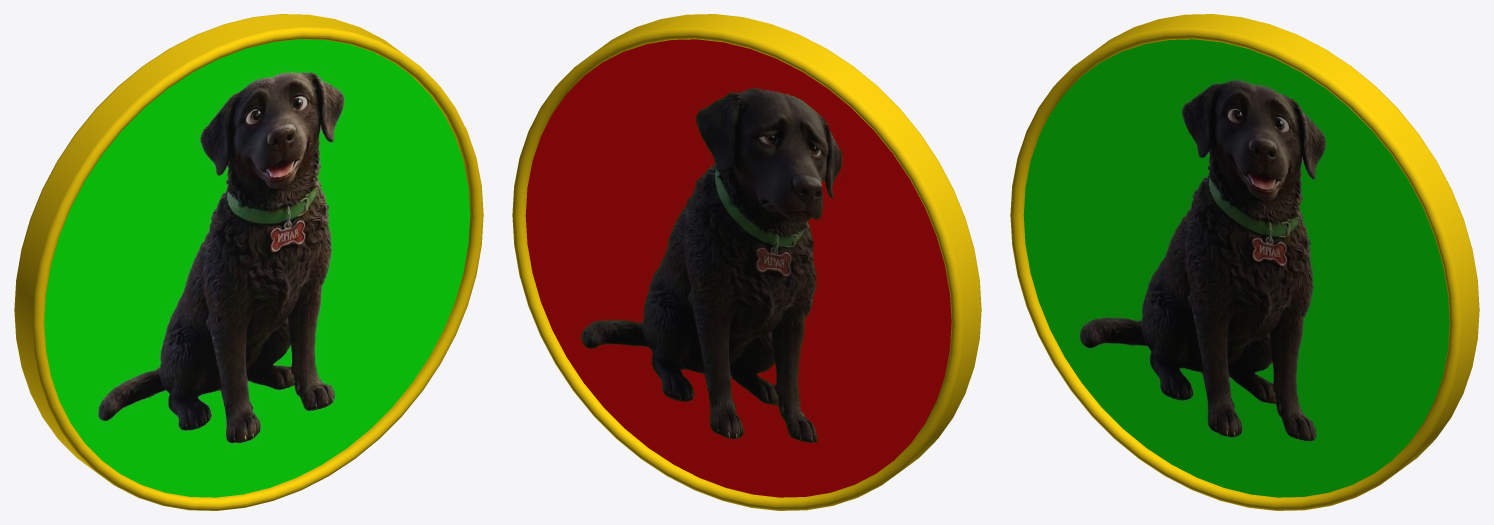
The model's file is moneda_Rayen.glb.
3 views of the same model, side by side, from view 1: azimuth 30°, elevation 25°; view 2: azimuth 150°, elevation 25°; view 3: azimuth 330°, elevation 25° (orthographic).
Parts seen in each view (by area): view 1: pCylinder1; view 2: pCylinder1; view 3: pCylinder1.
Part boxes in pixels (box(x1,y1,x2,y2)): pCylinder1: box(14, 14, 483, 510); pCylinder1: box(512, 14, 981, 510); pCylinder1: box(1010, 14, 1479, 510).
Bounding box in the file's own units: 0.3155 × 0.3148 × 0.0286.
Materials: 3 (2 with a texture image).
